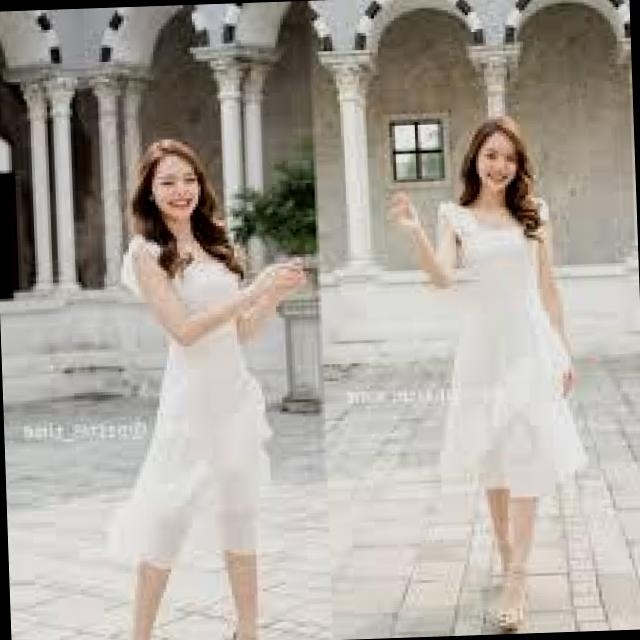dress: (117, 231, 270, 574), (434, 199, 586, 505)
